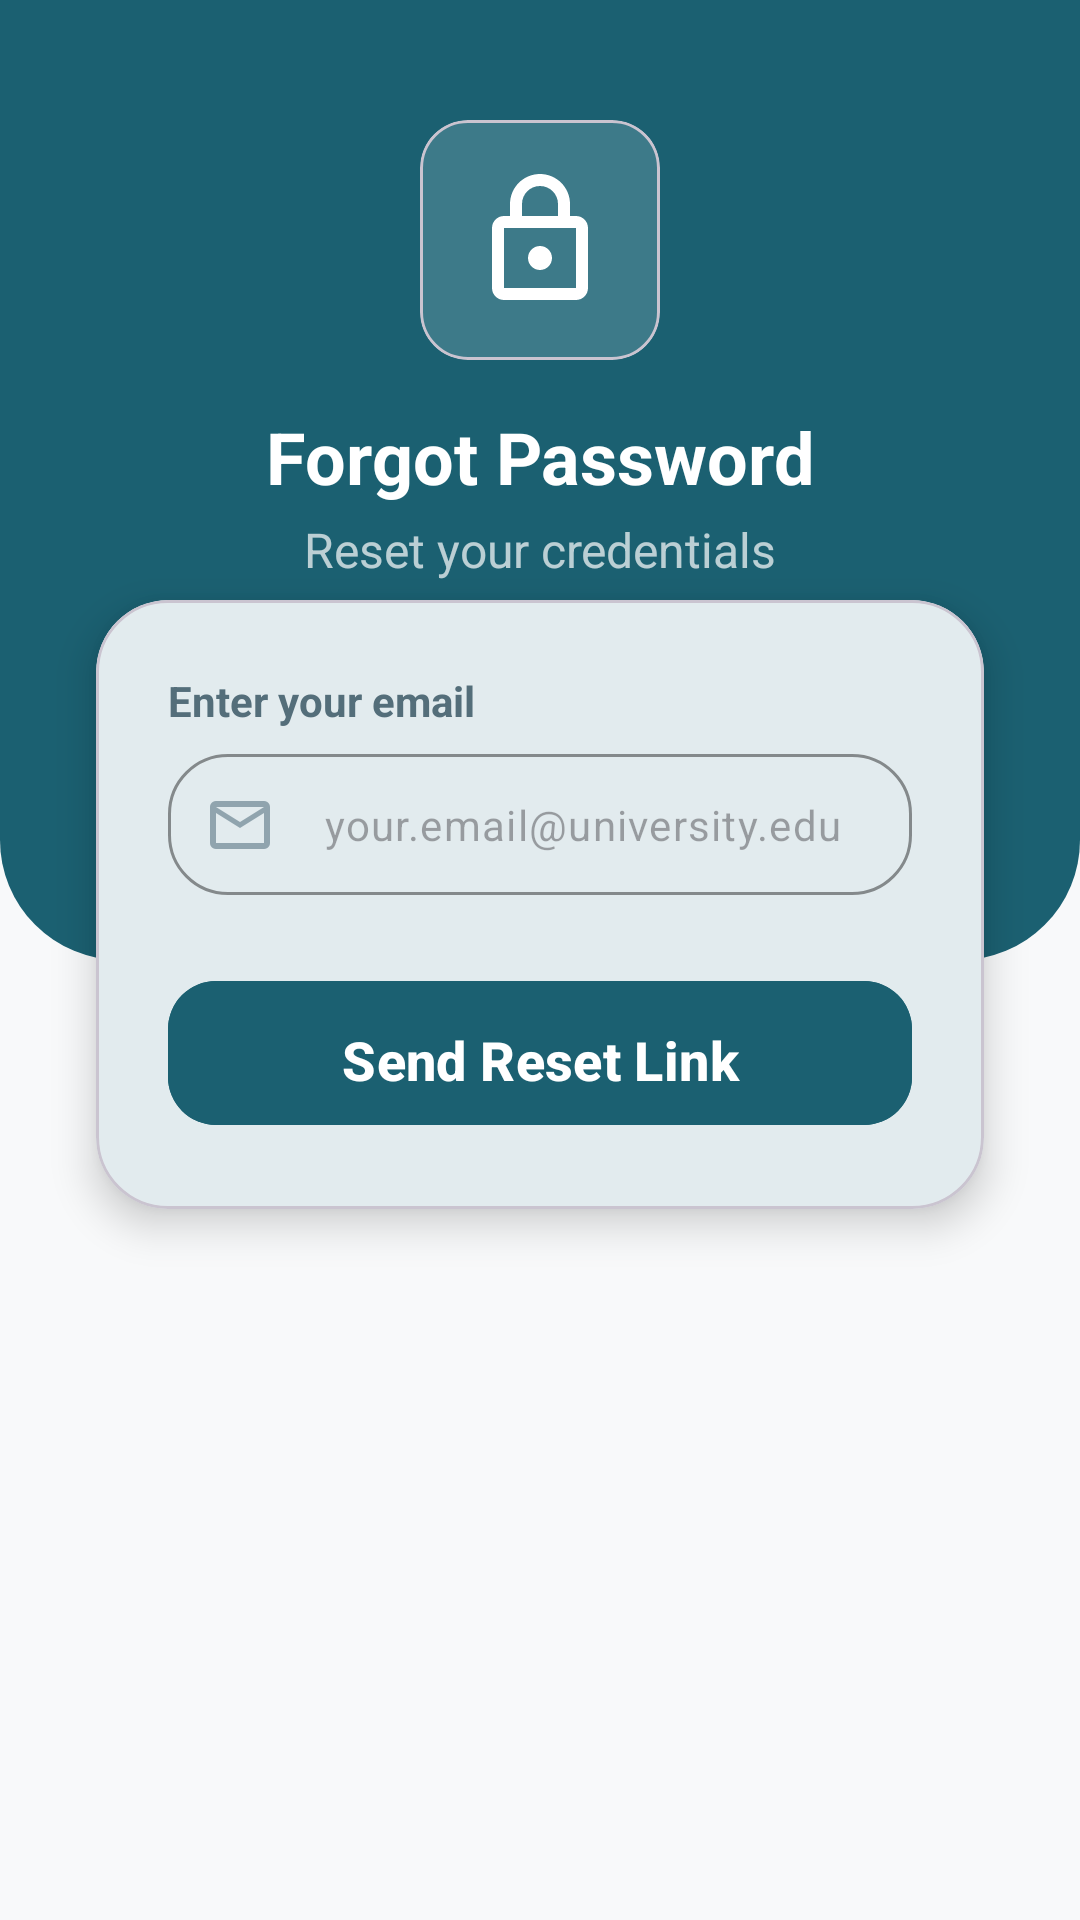

Icon bounding boxes for this 1080 × 1920 phone screenshot, format (left=x1, top=y1, right=x2, bottom=y2):
lock: (left=492, top=174, right=588, bottom=300)
